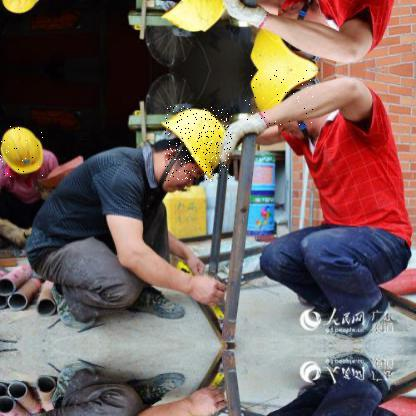safetyhelmet: (165, 106, 233, 182), (245, 66, 317, 126), (0, 126, 45, 178)
